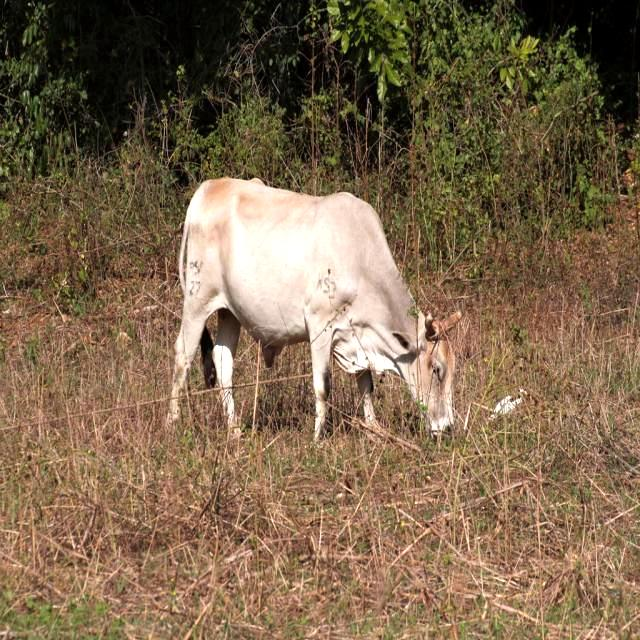COW: (168, 180, 460, 439)
